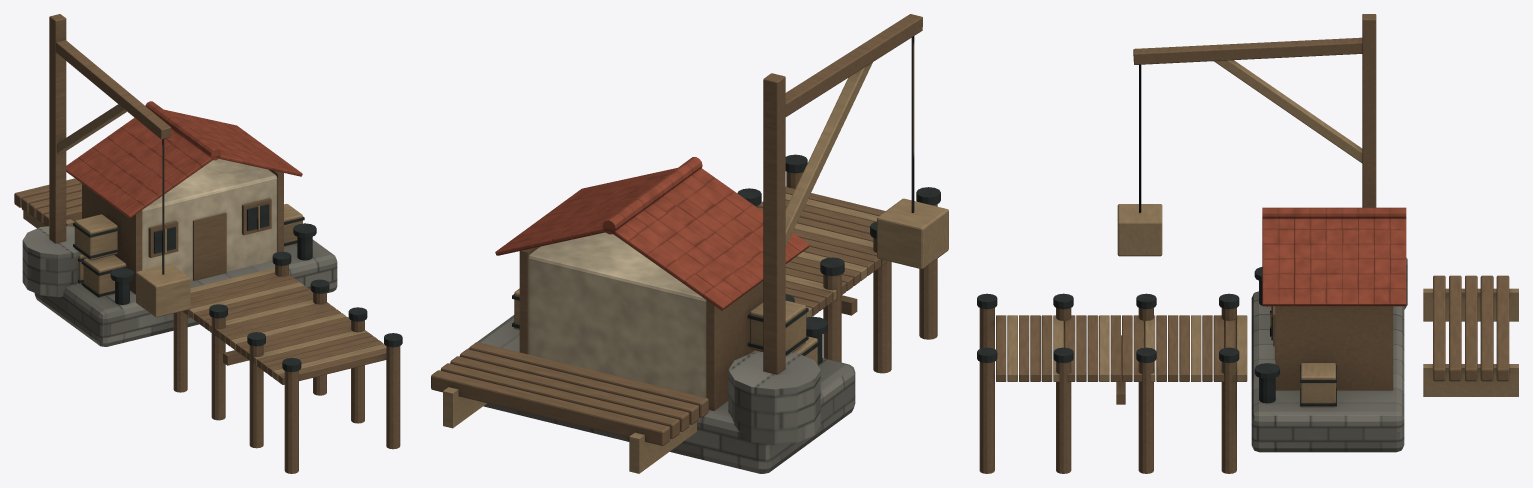
File: port-shipyard.glb
3 renders of one model, left to right at view 1: azimuth 30°, elevation 25°; view 2: azimuth 150°, elevation 25°; view 3: azimuth 270°, elevation 25°, orthographic. The views are drawn at different scales.
Parts seen in each view (by area): view 1: Port shipyard; view 2: Port shipyard; view 3: Port shipyard.
Boxes of the visible parts, bbox=[...] form: Port shipyard: bbox=[14, 14, 402, 473]; Port shipyard: bbox=[431, 14, 948, 473]; Port shipyard: bbox=[977, 14, 1518, 473].
Size of the model in its own units: 5.1 by 6.4 by 8.51.
1 material, 1 textured.
